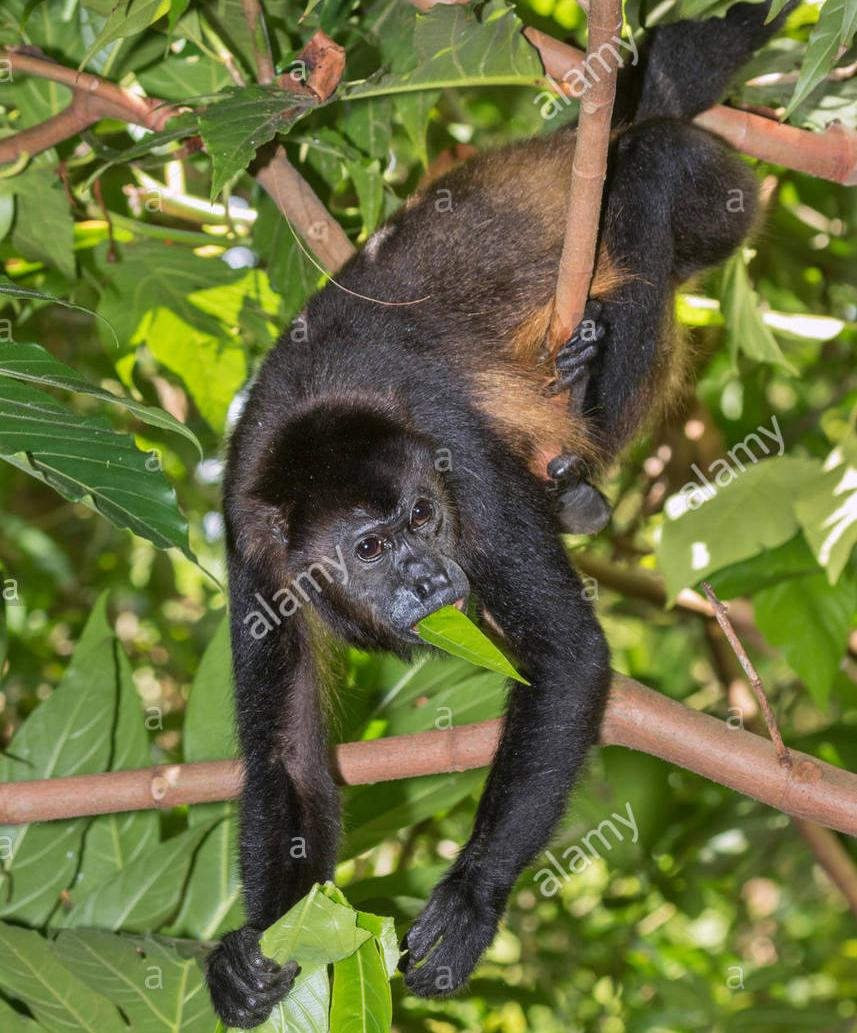monkey: (208, 4, 782, 1027)
